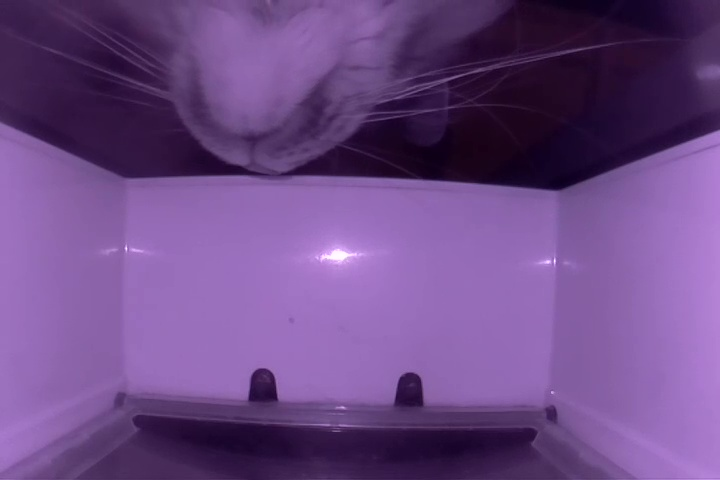Snout: (173, 50, 369, 180)
